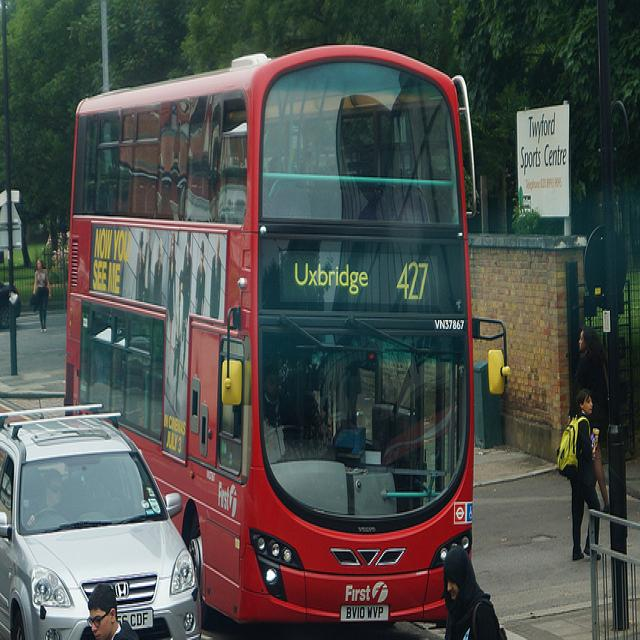Vehicle: (62, 55, 474, 635), (0, 403, 202, 630)
